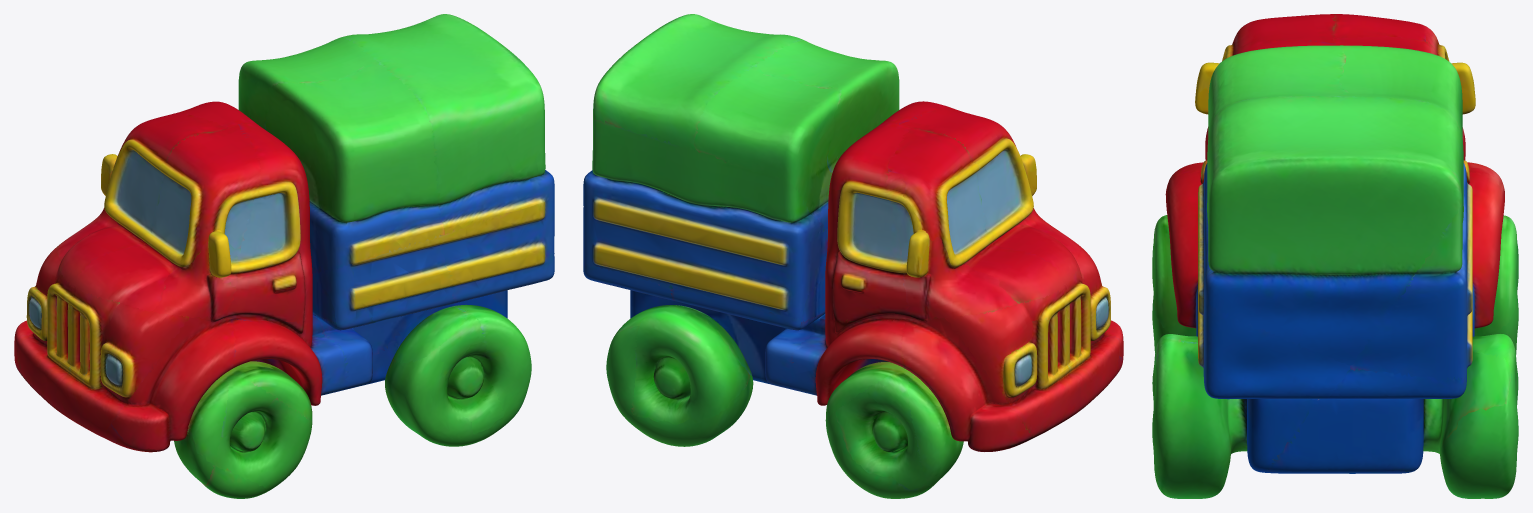
The model's file is Camion.glb.
3 renders of one model, left to right at view 1: azimuth 30°, elevation 25°; view 2: azimuth 150°, elevation 25°; view 3: azimuth 270°, elevation 25°, orthographic. The views are drawn at different scales.
Size of the model in its own units: 1.9 by 1.36 by 1.16.
1 material, 1 textured.
